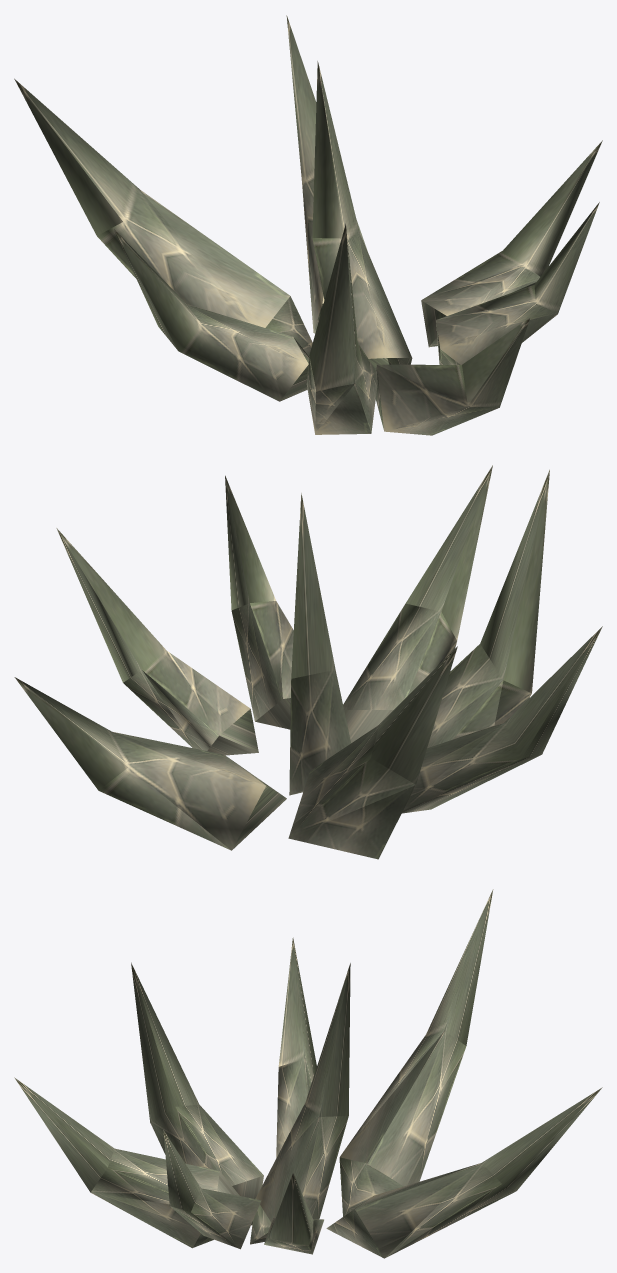
3 views of the same model, one above another, from view 1: azimuth 30°, elevation 25°; view 2: azimuth 150°, elevation 25°; view 3: azimuth 270°, elevation 25° (orthographic). The views are drawn at different scales.
Parts seen in each view (by area): view 1: FB2_bingjing_006, FB2_bingjing_003, FB2_bingjing_007, FB2_bingjing_1, FB2_bingjing_004, FB2_bingjing_005, FB2_bingjing_008, FB2_bingjing_002; view 2: FB2_bingjing_002, FB2_bingjing_006, FB2_bingjing_1, FB2_bingjing_005, FB2_bingjing_004, FB2_bingjing_003, FB2_bingjing_007, FB2_bingjing_008; view 3: FB2_bingjing_006, FB2_bingjing_002, FB2_bingjing_007, FB2_bingjing_1, FB2_bingjing_004, FB2_bingjing_003, FB2_bingjing_008, FB2_bingjing_005.
Boxes of the visible parts, <box> form: FB2_bingjing_006: <box>14,78,312,355</box>; FB2_bingjing_003: <box>113,228,309,401</box>; FB2_bingjing_007: <box>312,61,412,369</box>; FB2_bingjing_1: <box>375,317,530,435</box>; FB2_bingjing_004: <box>306,223,377,434</box>; FB2_bingjing_005: <box>421,140,602,347</box>; FB2_bingjing_008: <box>436,202,599,364</box>; FB2_bingjing_002: <box>286,15,367,333</box>; FB2_bingjing_002: <box>14,677,286,850</box>; FB2_bingjing_006: <box>288,646,457,859</box>; FB2_bingjing_1: <box>343,465,492,742</box>; FB2_bingjing_005: <box>56,528,258,755</box>; FB2_bingjing_004: <box>427,469,549,748</box>; FB2_bingjing_003: <box>402,626,602,813</box>; FB2_bingjing_007: <box>289,493,350,795</box>; FB2_bingjing_008: <box>225,475,293,729</box>; FB2_bingjing_006: <box>339,889,493,1216</box>; FB2_bingjing_002: <box>326,1087,602,1258</box>; FB2_bingjing_007: <box>250,963,350,1244</box>; FB2_bingjing_1: <box>14,1077,252,1248</box>; FB2_bingjing_004: <box>131,962,263,1198</box>; FB2_bingjing_003: <box>276,937,316,1157</box>; FB2_bingjing_008: <box>163,1130,261,1249</box>; FB2_bingjing_005: <box>264,1173,323,1254</box>.
Bounding box in the file's own units: 2.29 × 1.42 × 2.73.
